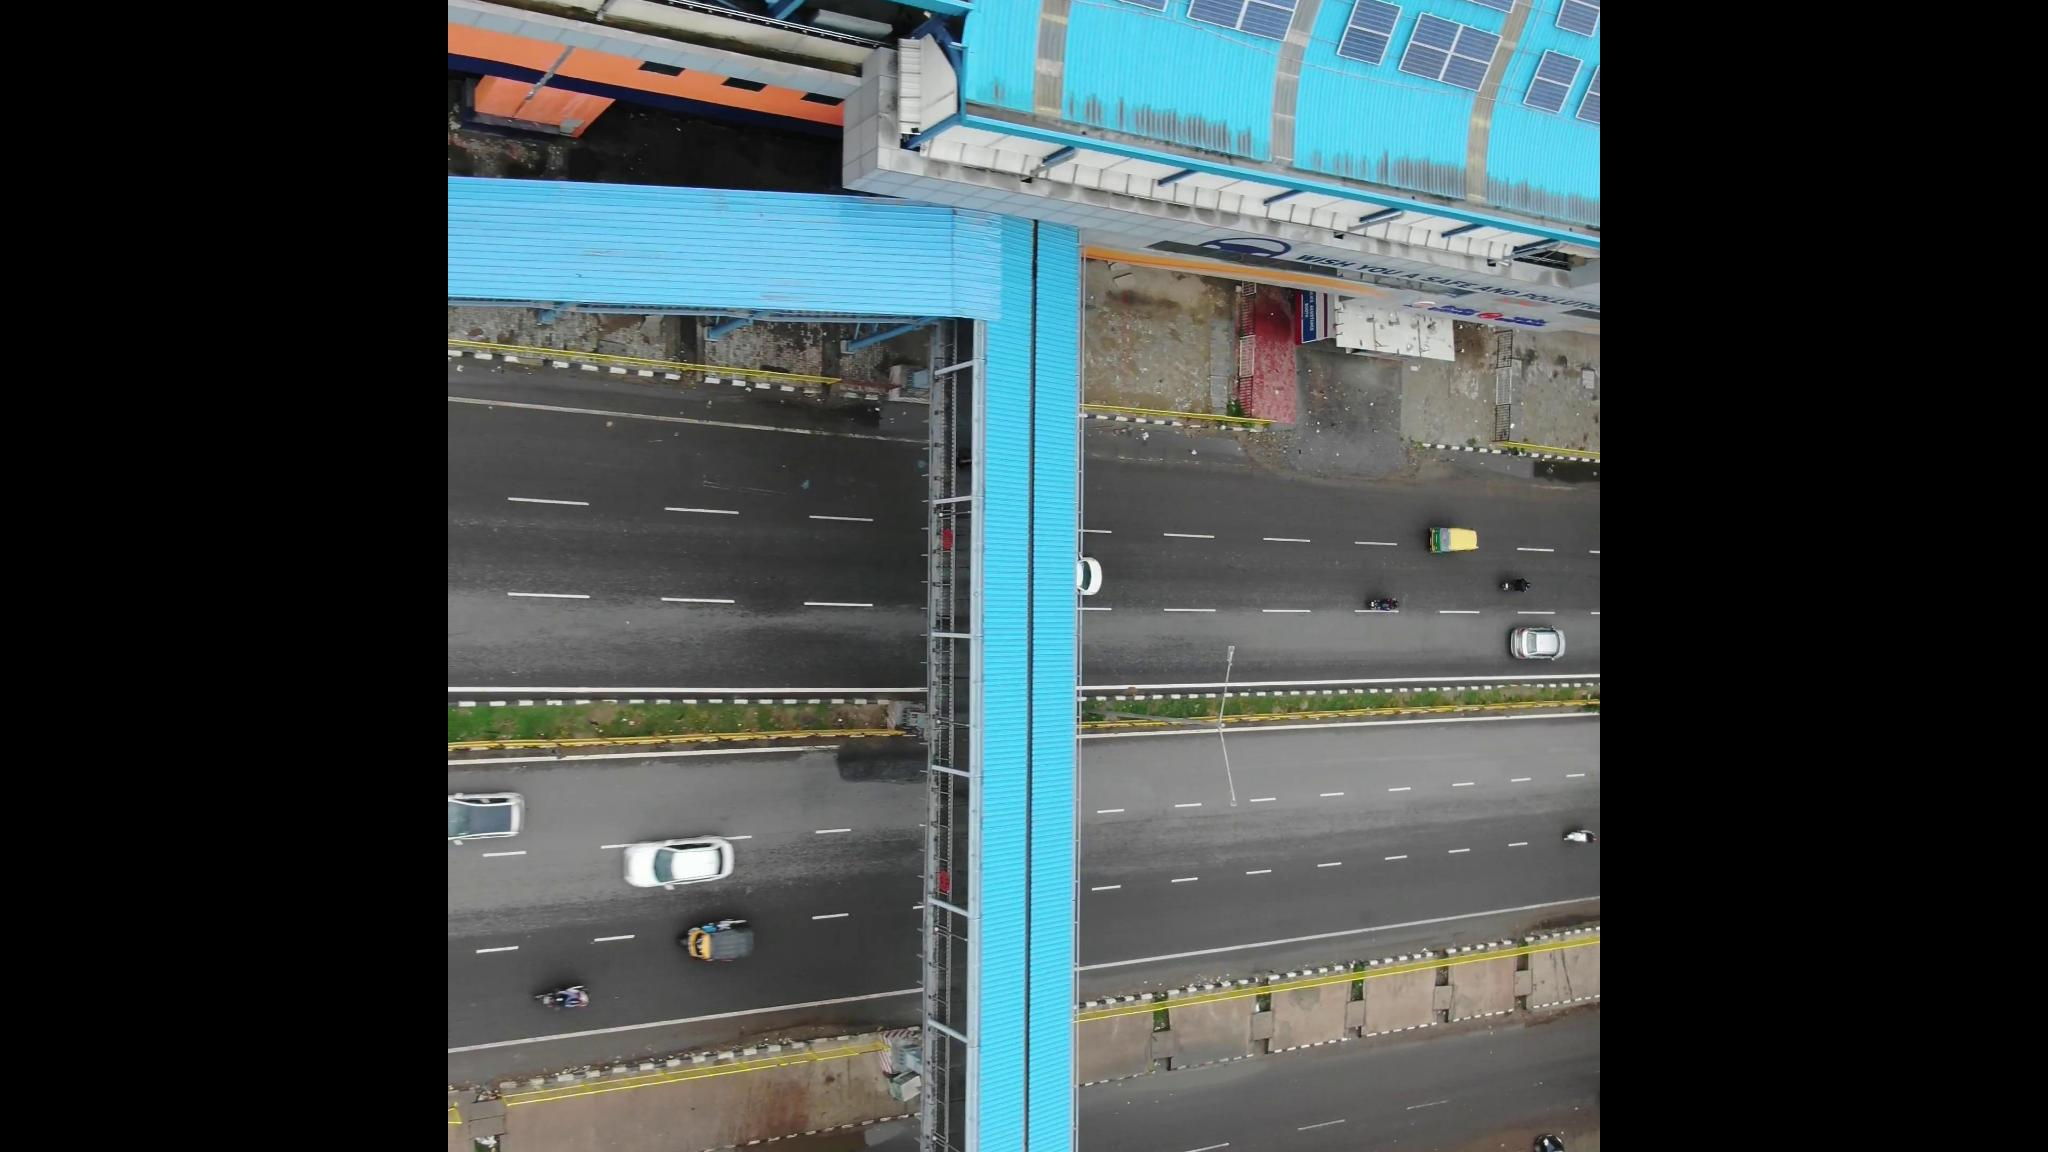Waterlogging: (544, 1120, 892, 1152)
